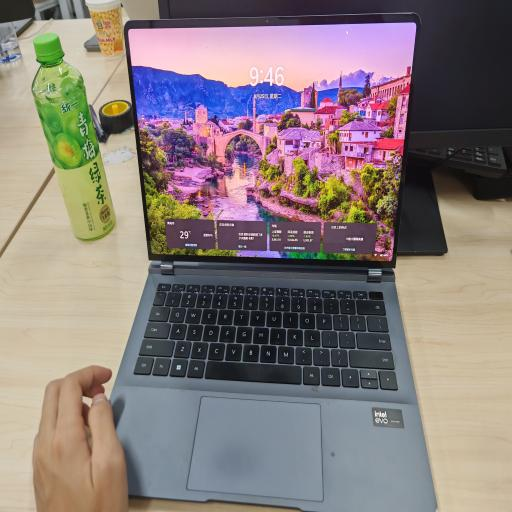laptop: (111, 14, 436, 512)
